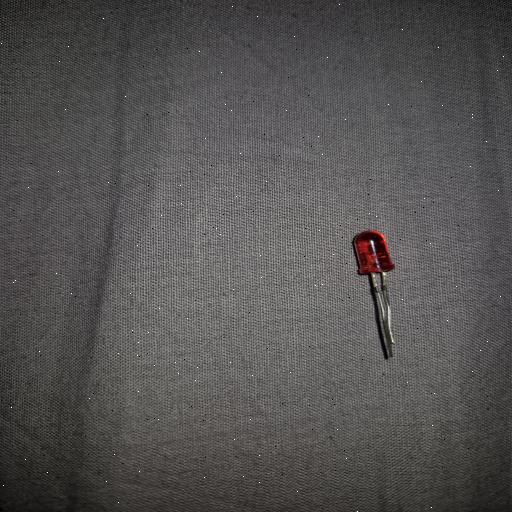led-diode: (370, 261, 392, 359), (351, 230, 387, 274), (373, 248, 382, 263)
